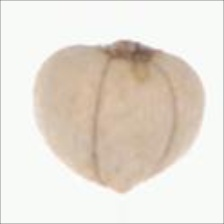L5: (91, 57, 179, 196), (93, 38, 165, 63)
L6: (31, 39, 207, 196)
